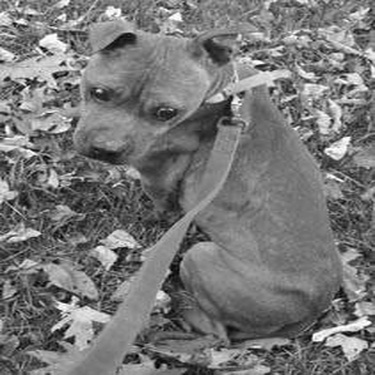dog: (73, 16, 349, 358)
